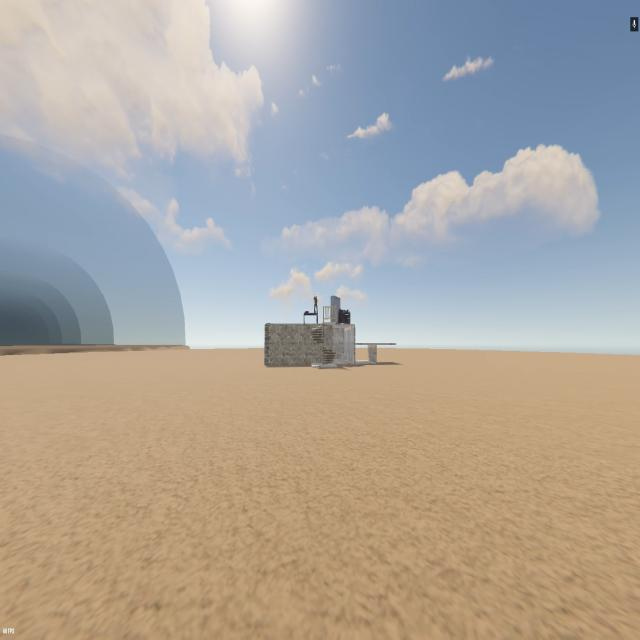Player: (314, 294, 318, 313)
